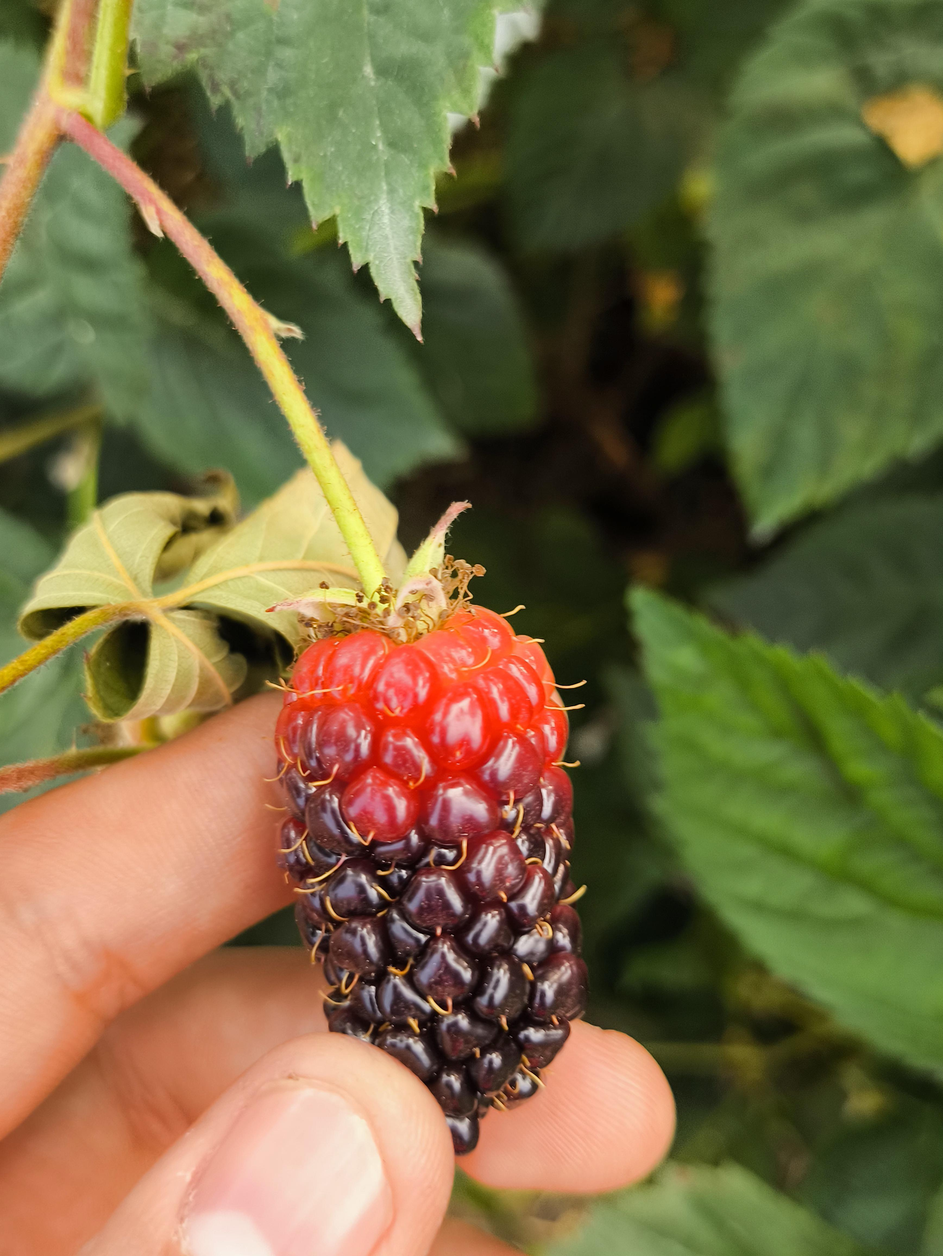marron: (273, 596, 584, 1118)
